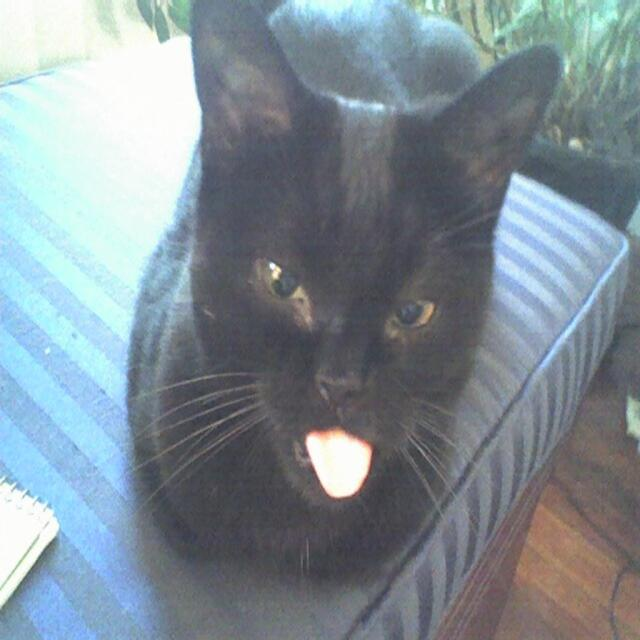Cat: (89, 0, 564, 602)
